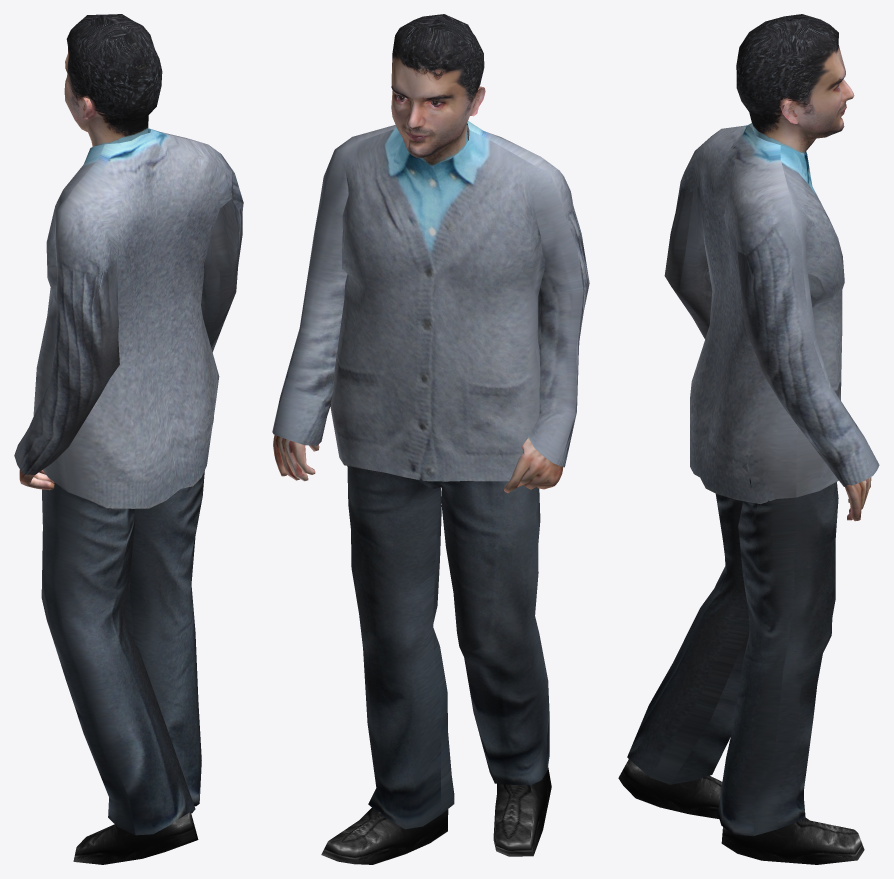
The model's file is man3.FBX.
3 renders of one model, left to right at view 1: azimuth 30°, elevation 25°; view 2: azimuth 150°, elevation 25°; view 3: azimuth 270°, elevation 25°, orthographic. The views are drawn at different scales.
Visible parts, largest first — view 1: CMan0005-Wa; view 2: CMan0005-Wa; view 3: CMan0005-Wa.
Boxes of the visible parts, x1,y1,x2,y2 form: CMan0005-Wa: (14, 14, 243, 864); CMan0005-Wa: (272, 14, 589, 864); CMan0005-Wa: (618, 14, 879, 864).
Size of the model in its own units: 0.1372 by 0.4548 by 0.1322.
Materials: 1 (1 with a texture image).
